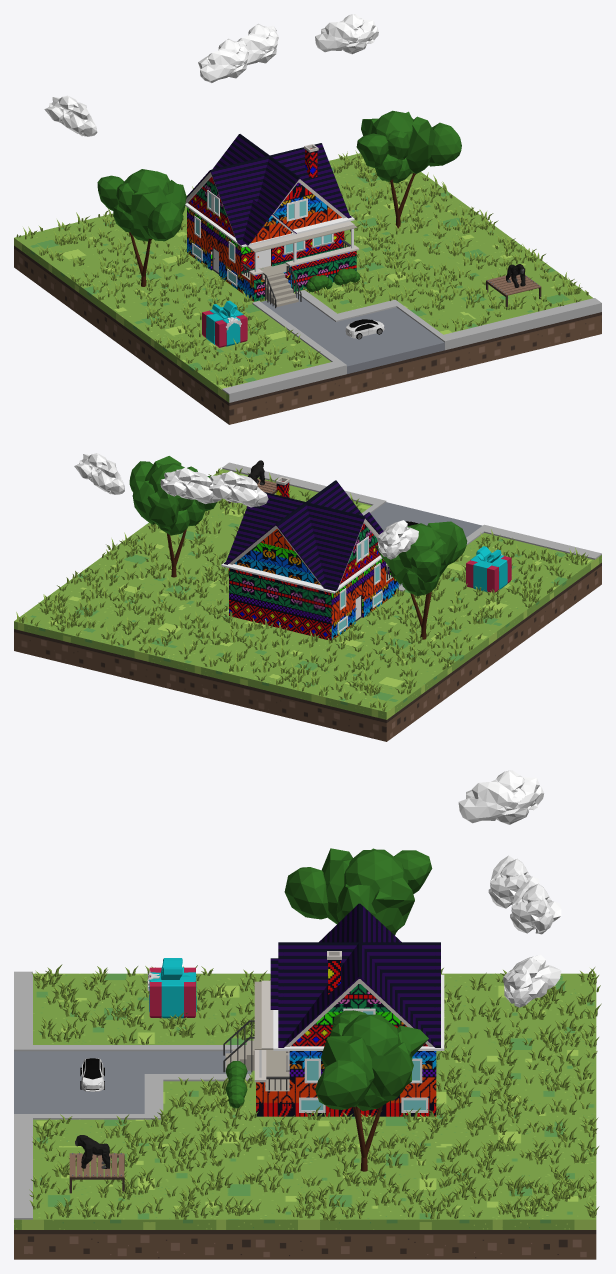
The picture shows the model from 3 angles, top to bottom: view 1: azimuth 30°, elevation 25°; view 2: azimuth 150°, elevation 25°; view 3: azimuth 270°, elevation 25°; orthographic projection. The views are drawn at different scales.
Parts seen in each view (by area): view 1: Cube.006, Cube.966, Circle.012_Grass_0.192, Cube.007, tree, tree.001, OBJRANDOM_GIANT_PRESENT, Cube.009, VEHICLES_TESLA; view 2: Cube.006, Cube.966, Circle.012_Grass_0.192, Cube.007, tree.001, tree, OBJRANDOM_GIANT_PRESENT; view 3: Cube.006, Circle.012_Grass_0.192, Cube.966, tree, Cube.007, tree.001, OBJRANDOM_GIANT_PRESENT, Cube.009, VEHICLES_TESLA, ANIMAL_GORILA.
Part boxes in pixels (x1,y1,x2,y2): Cube.006: [14, 153, 601, 424]; Cube.966: [185, 134, 359, 308]; Circle.012_Grass_0.192: [16, 150, 588, 386]; Cube.007: [44, 14, 378, 136]; tree: [356, 110, 461, 228]; tree.001: [97, 169, 186, 286]; OBJRANDOM_GIANT_PRESENT: [202, 300, 247, 347]; Cube.009: [486, 274, 541, 306]; VEHICLES_TESLA: [345, 319, 384, 339]; Cube.006: [14, 462, 601, 741]; Cube.966: [221, 477, 398, 640]; Circle.012_Grass_0.192: [16, 468, 588, 711]; Cube.007: [74, 453, 418, 559]; tree.001: [375, 521, 467, 639]; tree: [129, 456, 216, 577]; OBJRANDOM_GIANT_PRESENT: [466, 546, 511, 592]; Cube.006: [14, 971, 596, 1259]; Circle.012_Grass_0.192: [29, 964, 601, 1220]; Cube.966: [223, 903, 444, 1116]; tree: [315, 1010, 428, 1171]; Cube.007: [458, 770, 561, 1007]; tree.001: [284, 848, 432, 935]; OBJRANDOM_GIANT_PRESENT: [147, 958, 196, 1018]; Cube.009: [69, 1153, 124, 1193]; VEHICLES_TESLA: [80, 1058, 104, 1091]; ANIMAL_GORILA: [75, 1135, 109, 1168].
Bounding box in the file's own units: 4071 × 2277 × 4040.
Materials: 35 (7 with a texture image).
